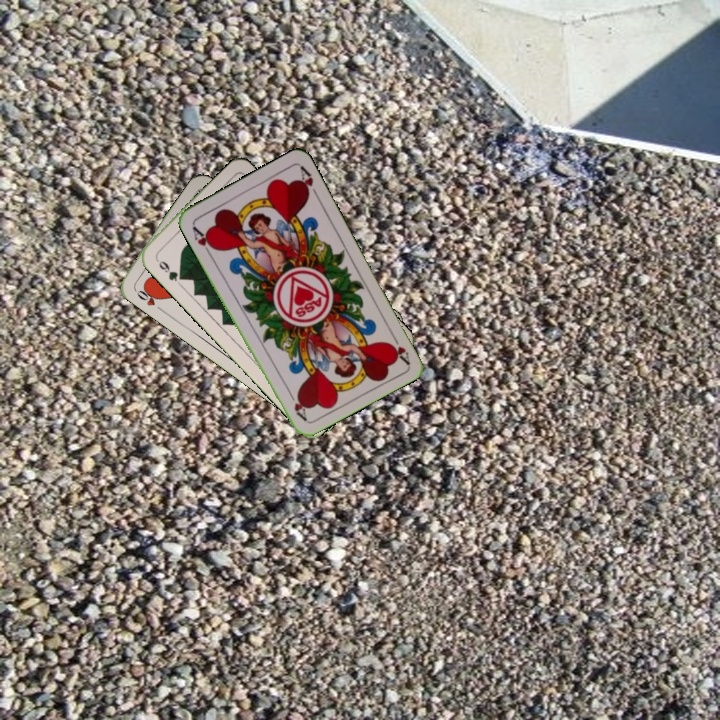G9: (152, 254, 186, 284)
HA: (188, 222, 218, 258), (385, 328, 412, 366)
HO: (130, 282, 165, 313)
